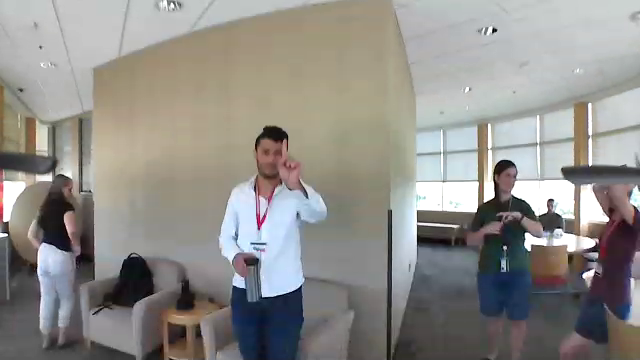up: (277, 137, 307, 189)
